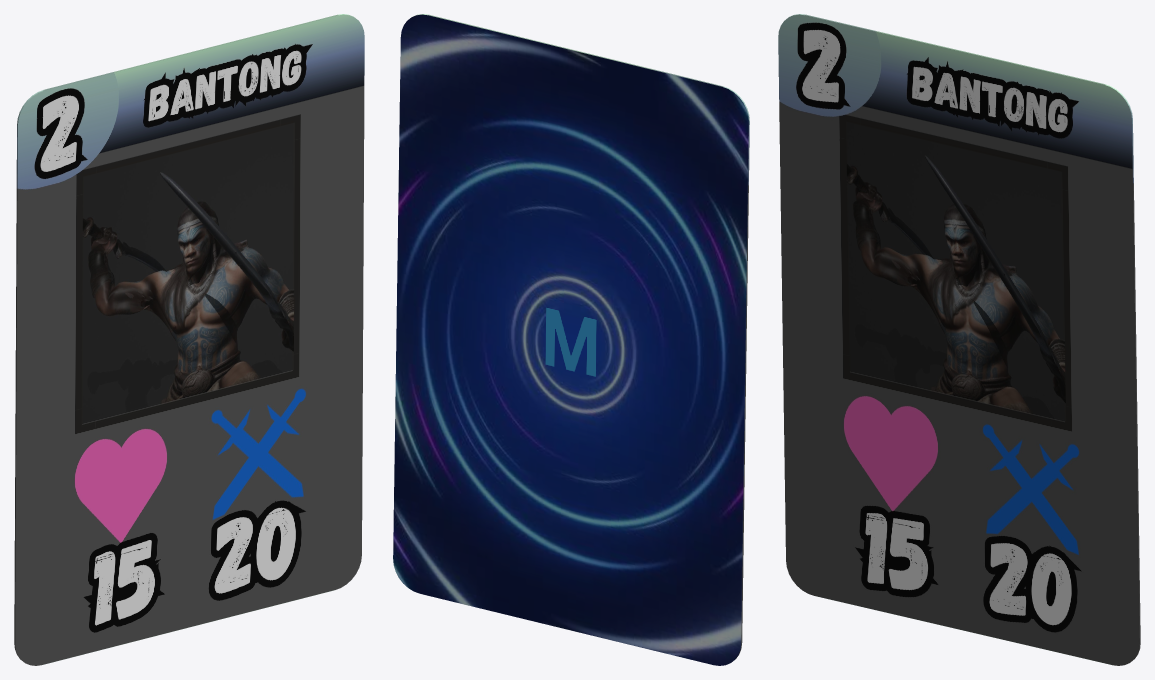
Rendered from Bantong3.glb.
3 renders of one model, left to right at view 1: azimuth 30°, elevation 25°; view 2: azimuth 150°, elevation 25°; view 3: azimuth 330°, elevation 25°, orthographic.
Visible parts, largest first — view 1: Card; view 2: Card; view 3: Card.
Boxes of the visible parts, x1=… form: Card: x1=14, y1=14, x2=364, y2=665; Card: x1=393, y1=14, x2=749, y2=665; Card: x1=778, y1=14, x2=1140, y2=665.
Bounding box in the file's own units: 0.0564 × 0.0891 × 0.0024.
2 materials, 2 textured.
